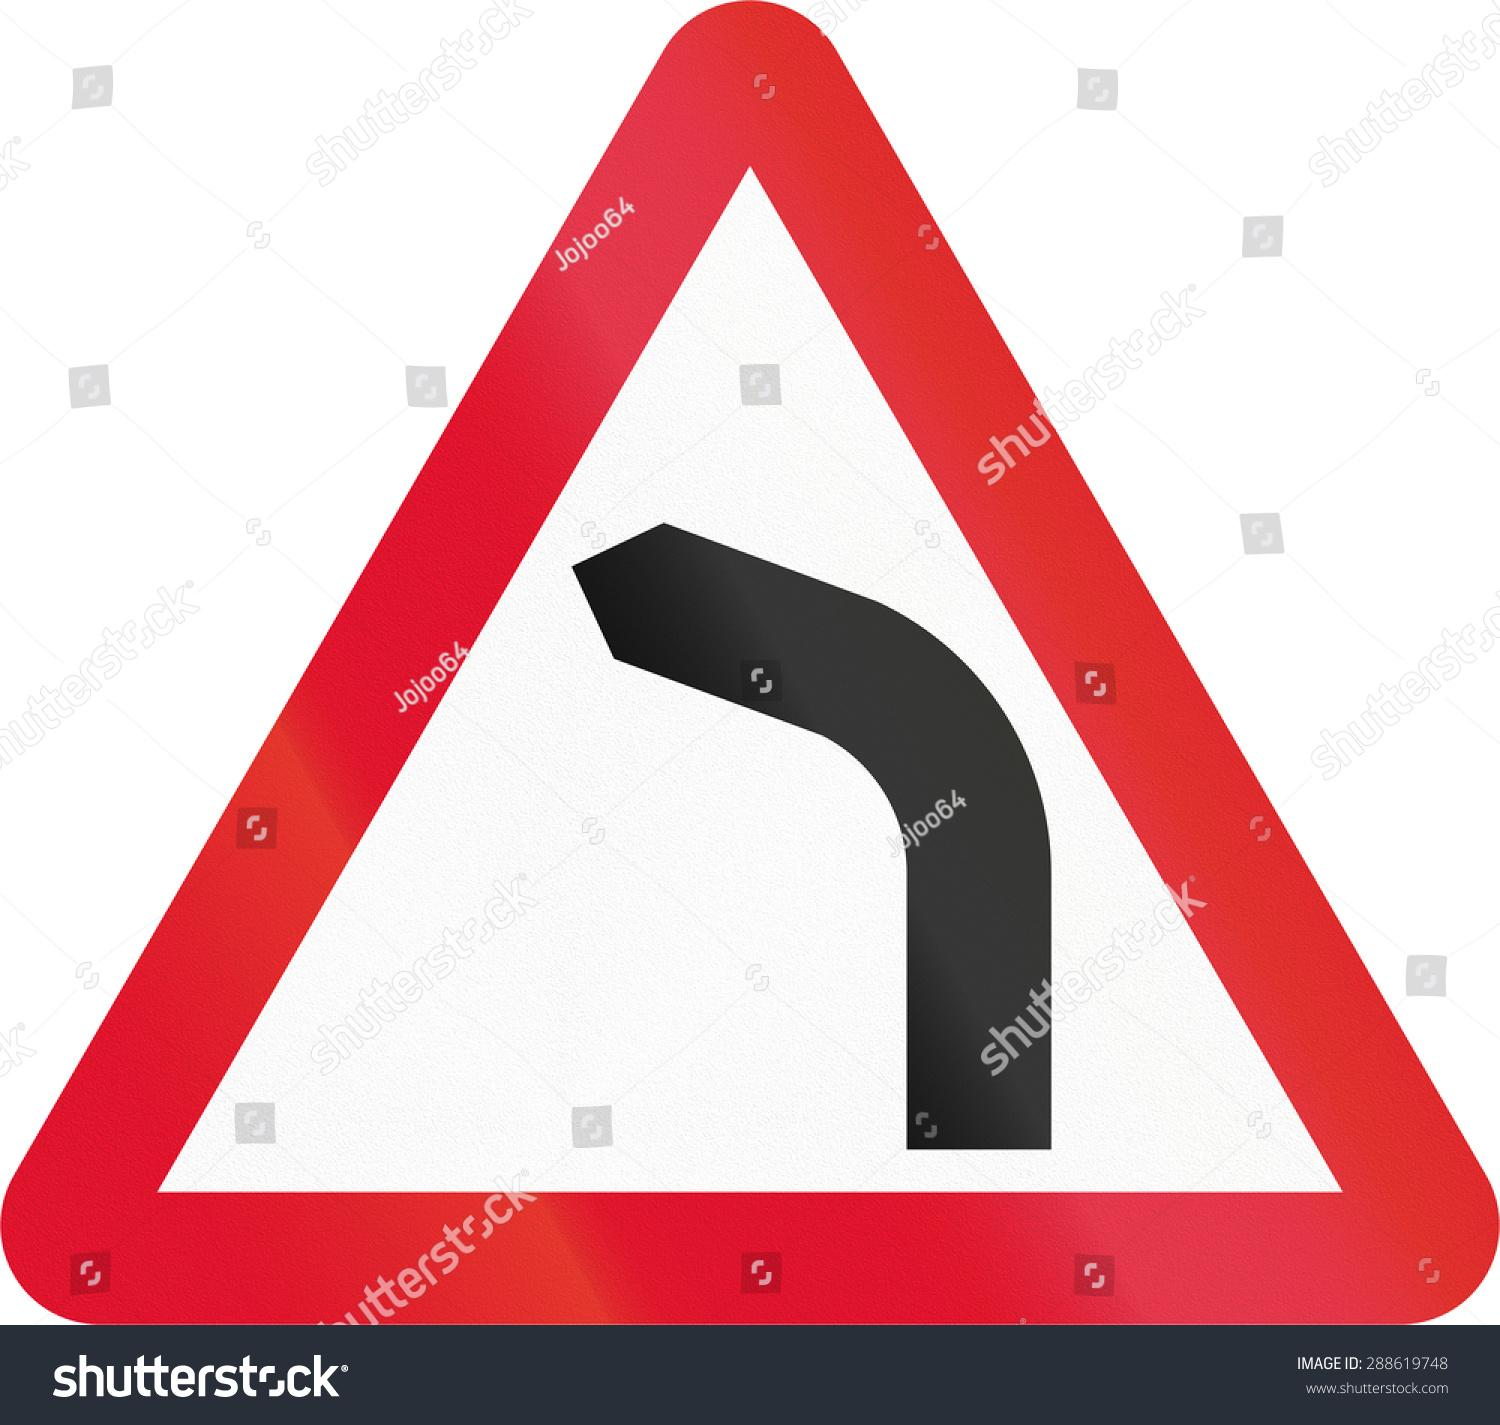Left hand curve: (48, 150, 1417, 1291)
